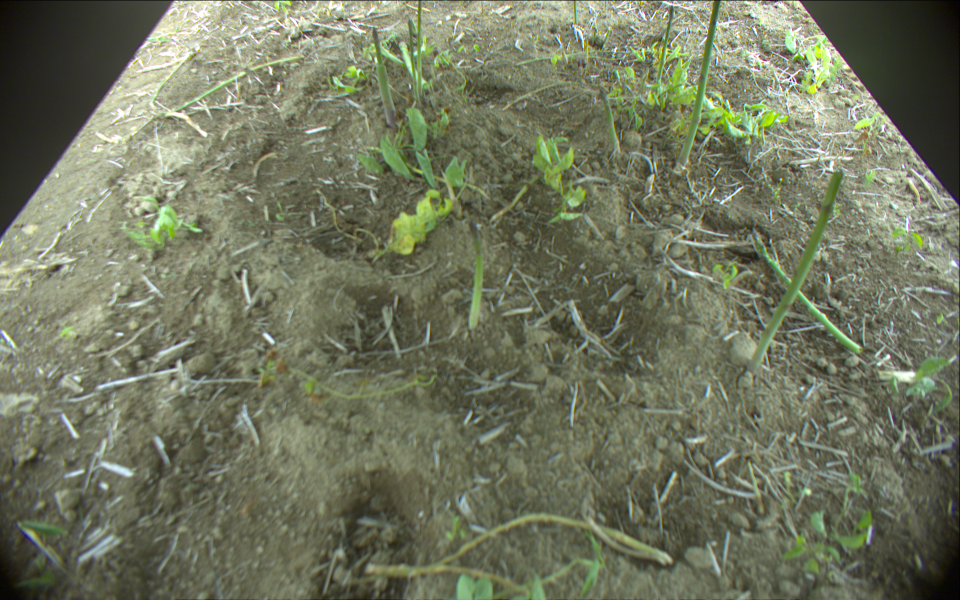aspa: (747, 166, 843, 369), (755, 231, 863, 355), (428, 516, 677, 566), (147, 53, 304, 118), (676, 1, 720, 166), (366, 565, 517, 600), (371, 23, 399, 126), (657, 3, 678, 85), (468, 222, 483, 331), (600, 88, 623, 158), (415, 1, 428, 105), (570, 1, 580, 29)
